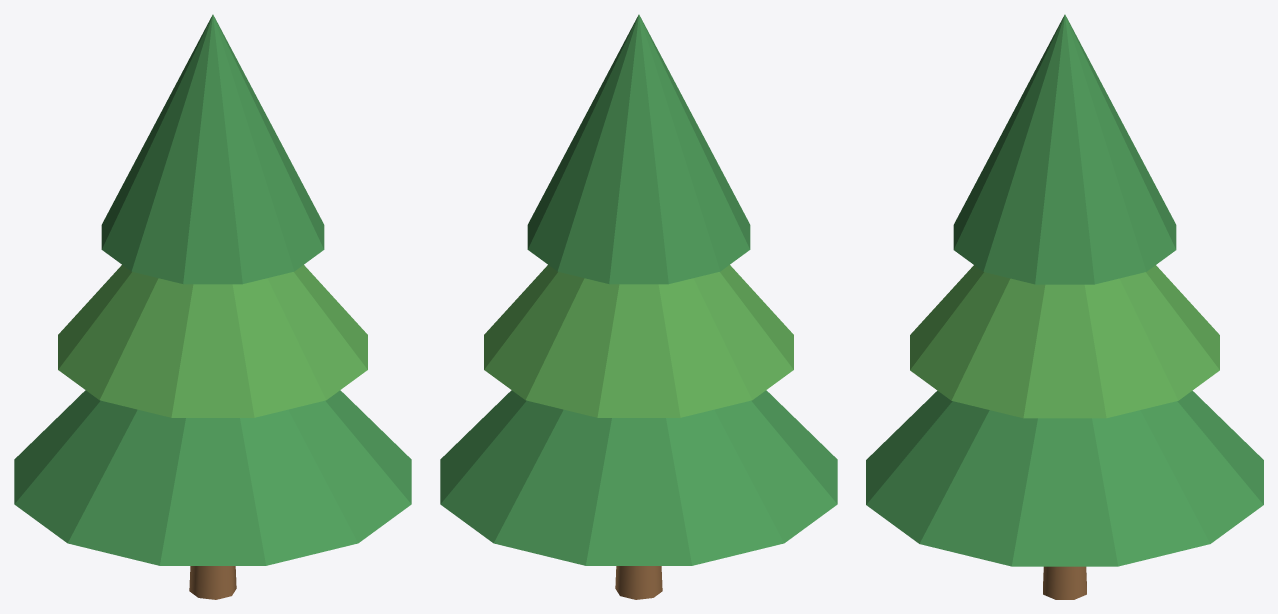
File: CM_Prop_Tree_Pine.fbx
3 renders of one model, left to right at view 1: azimuth 30°, elevation 25°; view 2: azimuth 150°, elevation 25°; view 3: azimuth 270°, elevation 25°, orthographic.
Visible parts, largest first — view 1: Canopy, Trunk; view 2: Canopy, Trunk; view 3: Canopy, Trunk.
Boxes of the visible parts, x1,y1,x2,y2 form: Canopy: (14, 14, 411, 565); Trunk: (189, 566, 236, 599); Canopy: (440, 14, 837, 565); Trunk: (615, 566, 662, 599); Canopy: (866, 14, 1263, 566); Trunk: (1043, 566, 1086, 599).
Size of the model in its own units: 10 by 10 by 16.
Materials: 1 (1 with a texture image).
